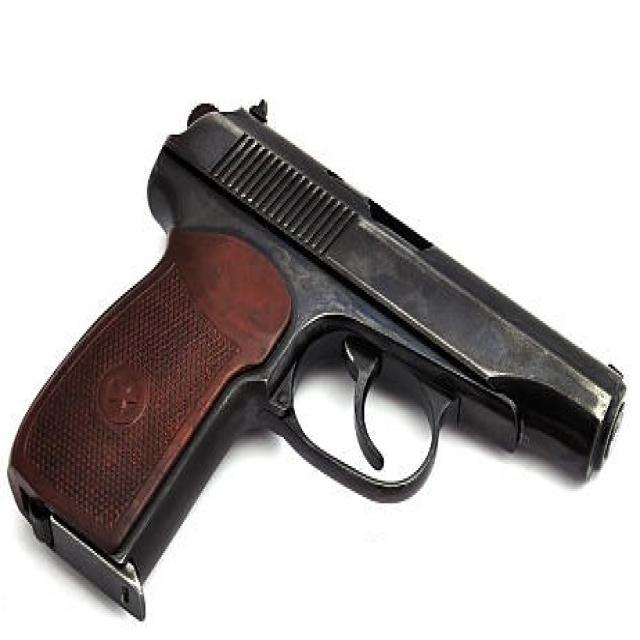pistol: (1, 87, 630, 631)
